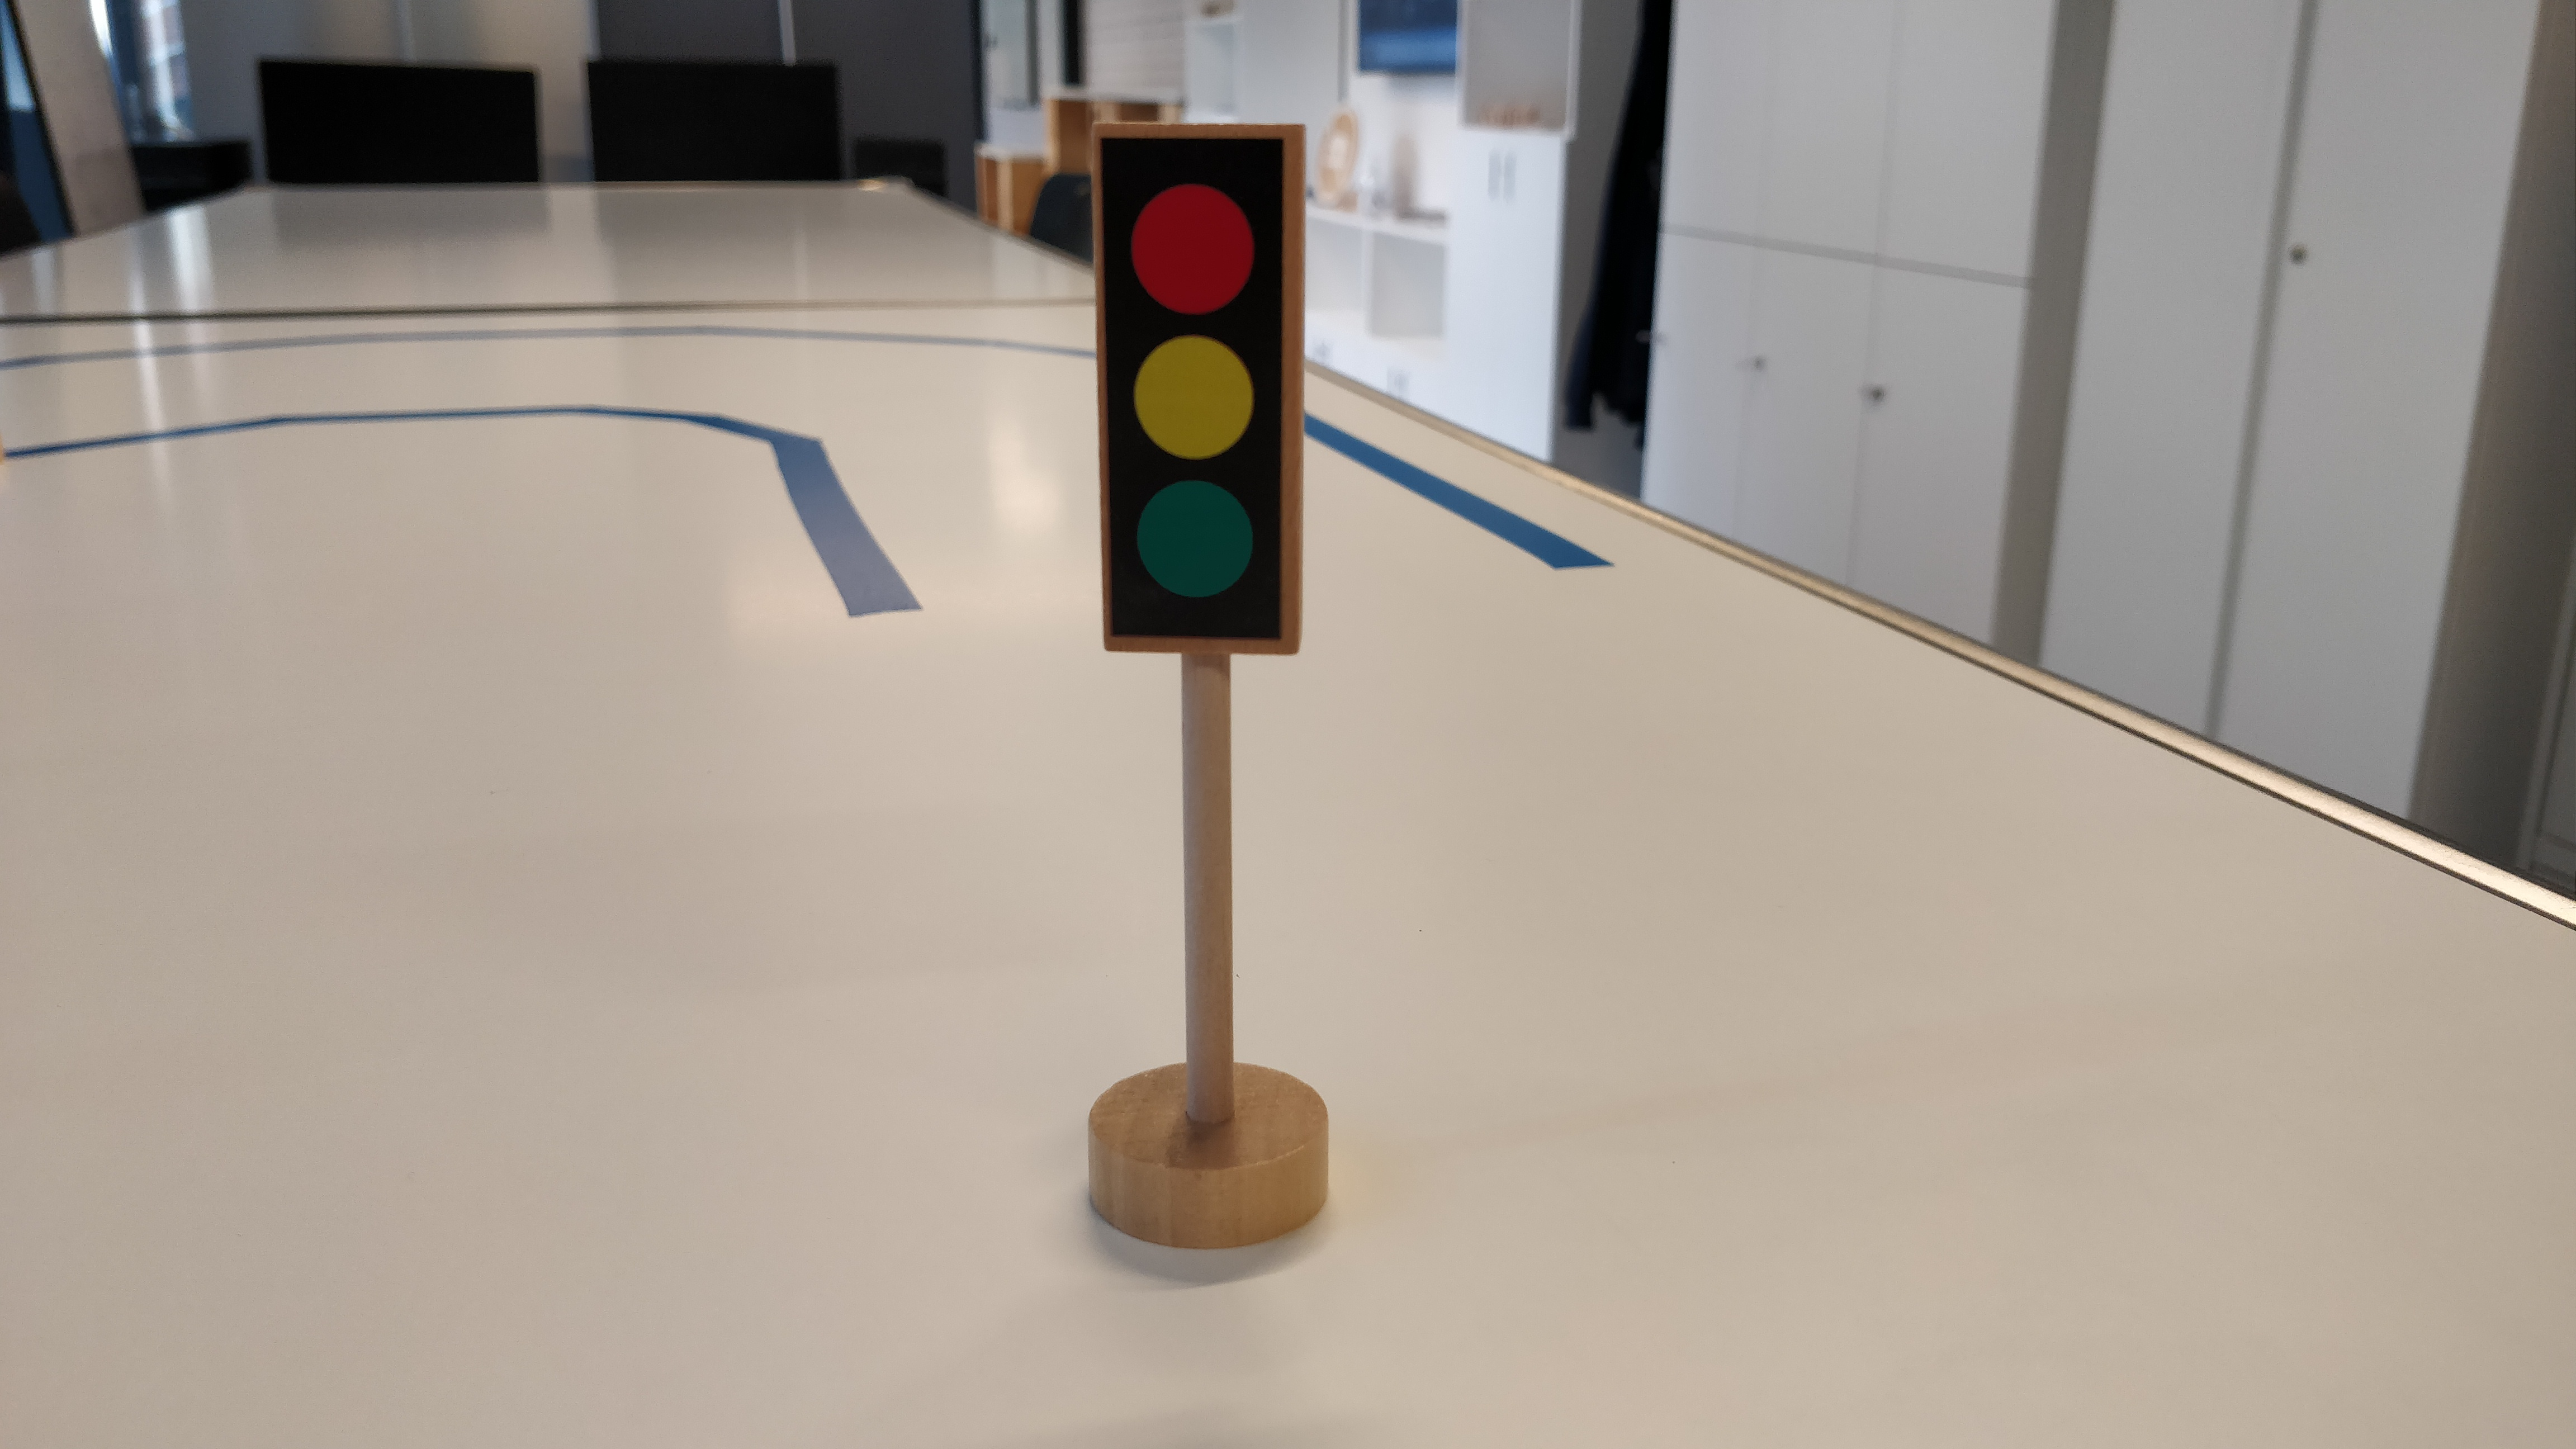Traffic Light: (1090, 122, 1311, 660)
